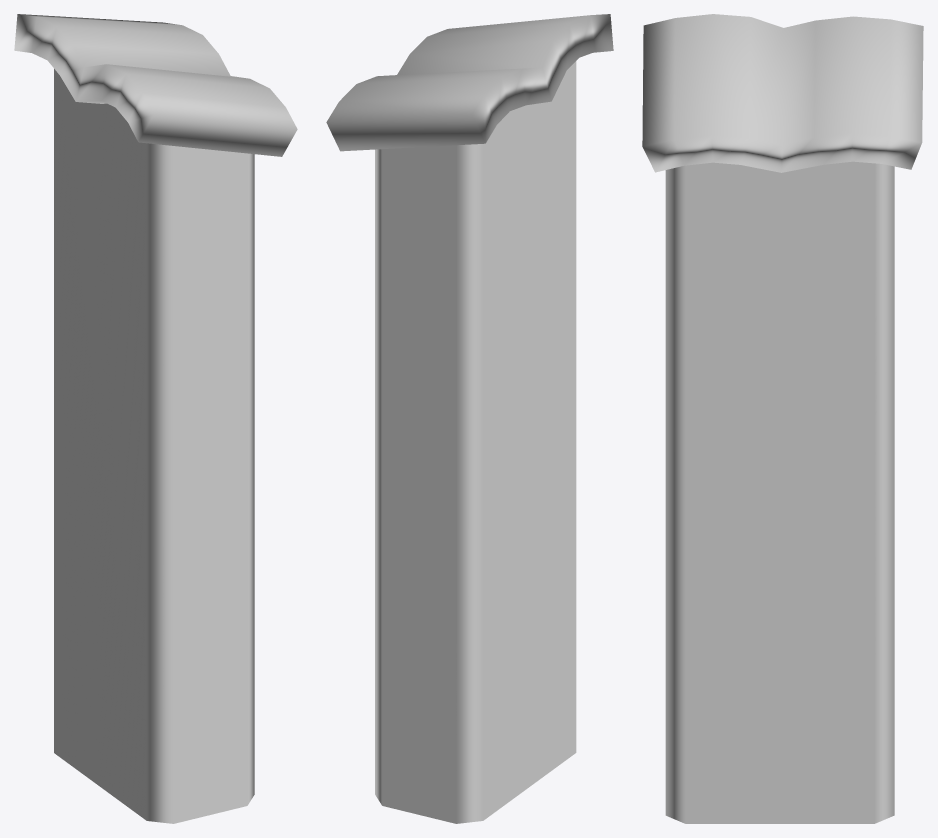
File: BuildingPiece_Chimney.fbx
The picture shows the model from 3 angles, left to right: view 1: azimuth 30°, elevation 25°; view 2: azimuth 150°, elevation 25°; view 3: azimuth 270°, elevation 25°; orthographic projection.
Visible parts, largest first — view 1: Cube.221; view 2: Cube.221; view 3: Cube.221.
Boxes of the visible parts, x1,y1,x2,y2 form: Cube.221: (14, 14, 297, 823); Cube.221: (326, 14, 613, 823); Cube.221: (642, 14, 923, 823).
Bounding box in the file's own units: 75.54 × 331 × 112.
